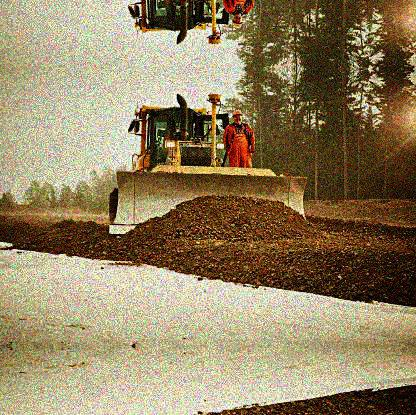helmet: (231, 110, 243, 126), (231, 14, 243, 30)
